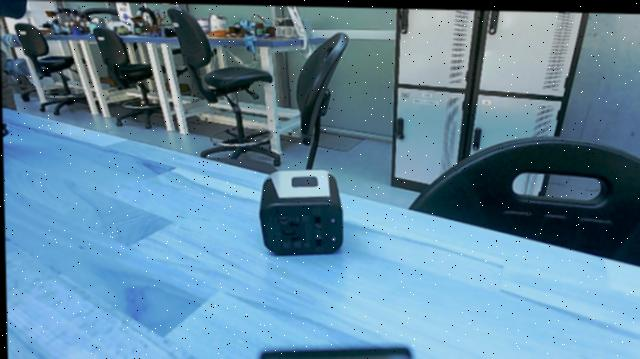adapter: (255, 169, 346, 253)
